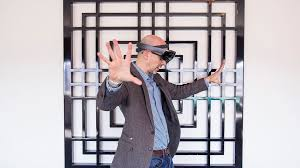hololens: (135, 41, 177, 65)
